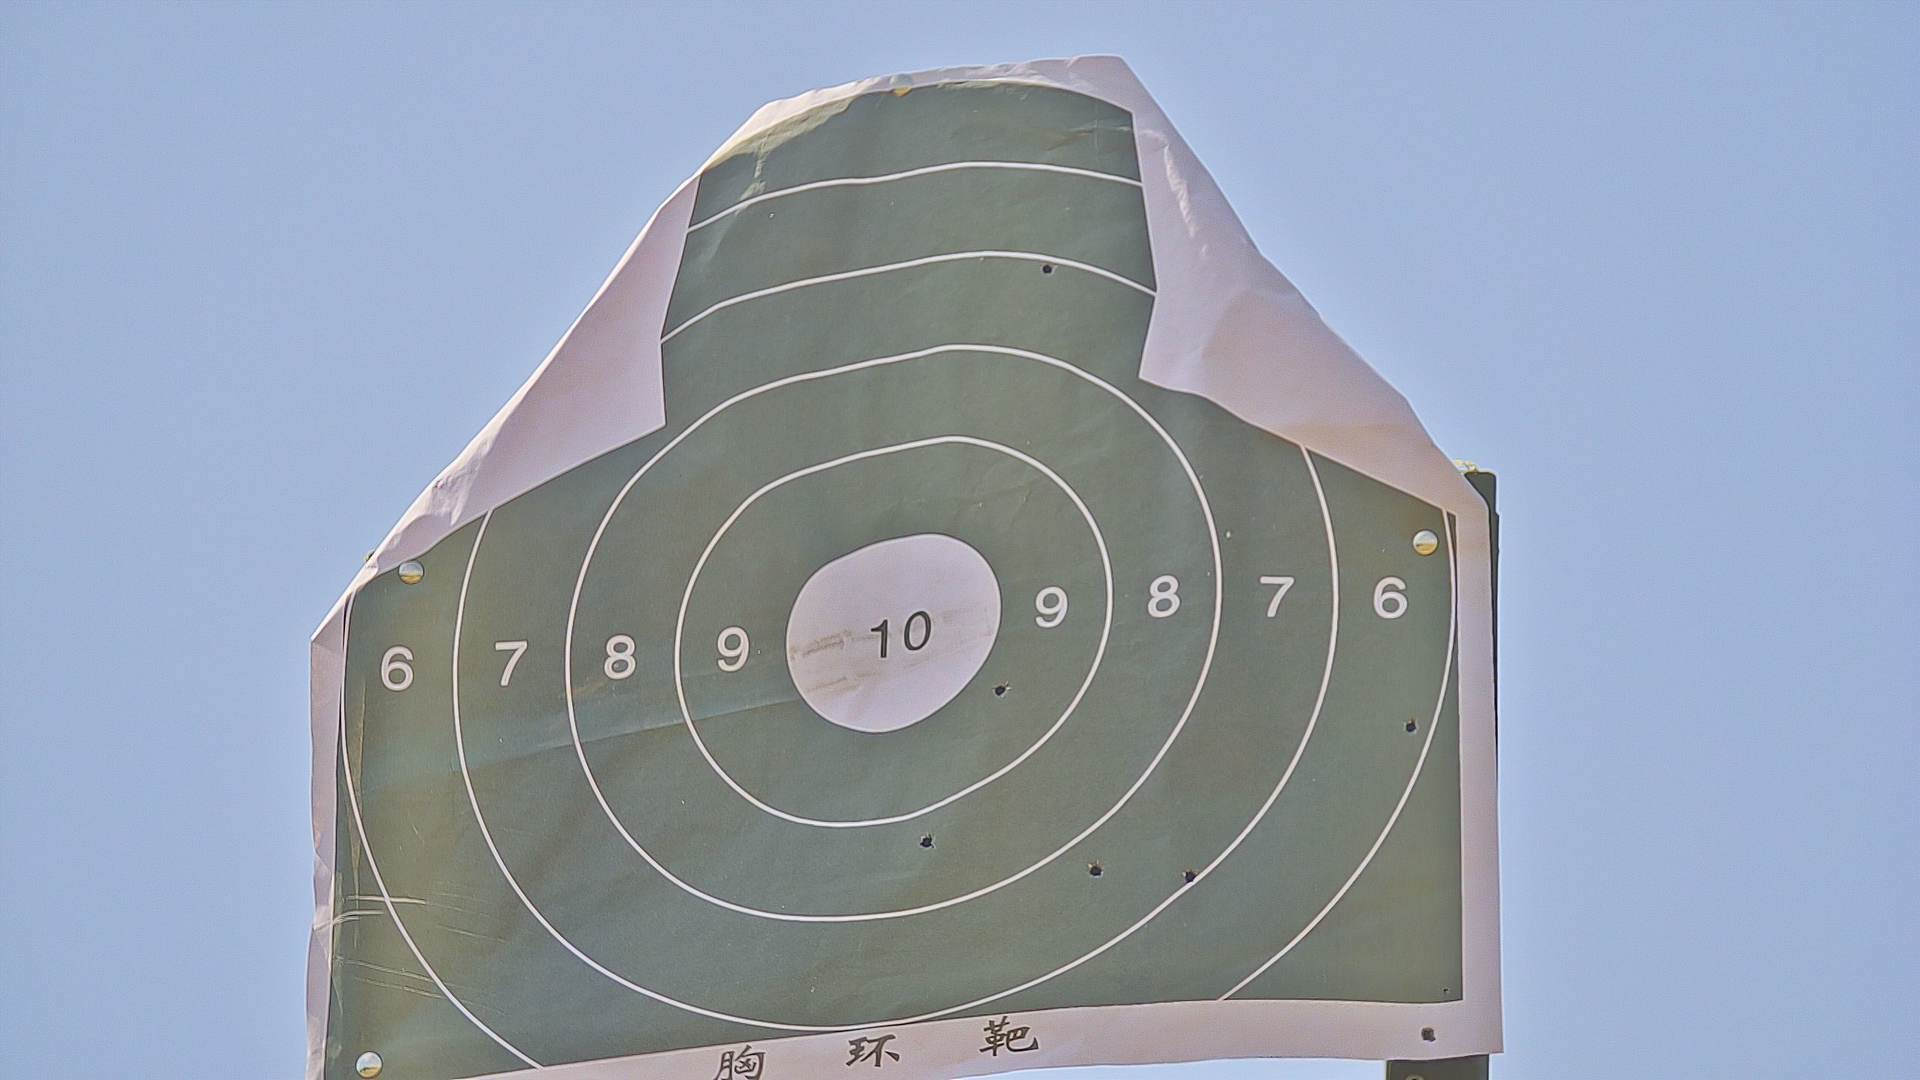hole: (916, 828, 938, 852), (1085, 858, 1104, 882), (1180, 864, 1199, 886), (1402, 713, 1418, 737), (1039, 260, 1058, 278), (992, 679, 1010, 698)
kernel: (887, 630, 899, 640)
target: (328, 86, 1472, 1069)
ten: (779, 531, 1007, 736)
